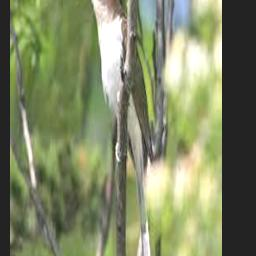Cuckoo: (80, 0, 155, 256)
